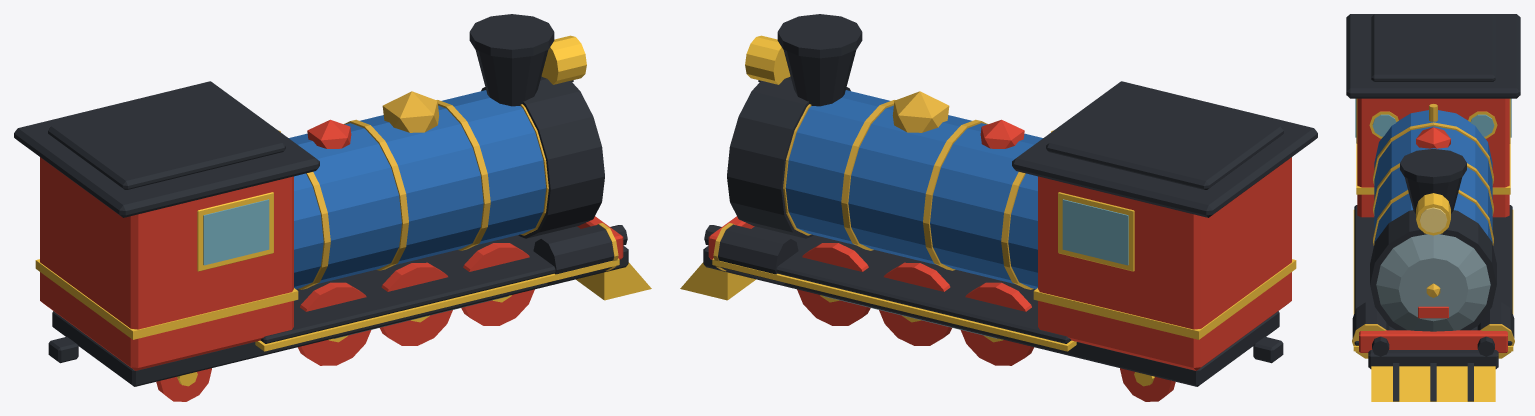
Rendered from sm_env_rail_locomotive.glb.
3 views of the same model, side by side, from view 1: azimuth 30°, elevation 25°; view 2: azimuth 150°, elevation 25°; view 3: azimuth 270°, elevation 25° (orthographic). The views are drawn at different scales.
Parts seen in each view (by area): view 1: Cab, Boiler, CabRoofTop, CabRoof, RunningBoard, Smokebox, Frame, CabWindow, ChimneyLip, Cylinder, Valance, Chimney (+14 smaller); view 2: Cab, Boiler, CabRoofTop, CabRoof, RunningBoard, Smokebox, Frame, CabWindow.001, ChimneyLip, Cylinder.001, Valance, Chimney (+14 smaller); view 3: SmokeboxDoor, CabRoofTop, Boiler, CabRoof, Cab, Cowcatcher, Smokebox, RunningBoard, BufferBeam, Frame, ChimneyLip, Chimney (+22 smaller).
Part boxes in pixels (x1,y1,x2,y2): Cab: (40, 157, 293, 370); Boiler: (289, 90, 546, 288); CabRoofTop: (48, 88, 285, 189); CabRoof: (14, 81, 319, 217); RunningBoard: (260, 226, 579, 343); Smokebox: (481, 76, 604, 238); Frame: (52, 245, 628, 386); CabWindow: (203, 199, 269, 265); ChimneyLip: (469, 14, 554, 58); Cylinder: (533, 224, 613, 284); Valance: (255, 258, 619, 351); Chimney: (475, 50, 548, 106); Cab: (1038, 157, 1291, 370); Boiler: (785, 90, 1042, 288); CabRoofTop: (1046, 88, 1283, 189); CabRoof: (1012, 81, 1317, 217); RunningBoard: (752, 226, 1071, 343); Smokebox: (727, 76, 850, 238); Frame: (703, 245, 1279, 386); CabWindow.001: (1062, 199, 1128, 265); ChimneyLip: (777, 14, 862, 58); Cylinder.001: (718, 224, 798, 284); Valance: (712, 258, 1076, 351); Chimney: (783, 50, 856, 106); SmokeboxDoor: (1376, 234, 1490, 331); CabRoofTop: (1371, 14, 1495, 81); Boiler: (1374, 110, 1492, 243); CabRoof: (1346, 14, 1520, 98); Cab: (1357, 98, 1509, 217); Cowcatcher: (1371, 366, 1495, 401); Smokebox: (1370, 210, 1496, 330); RunningBoard: (1354, 205, 1512, 345); BufferBeam: (1359, 330, 1507, 352); Frame: (1368, 350, 1498, 368); ChimneyLip: (1400, 149, 1466, 183); Chimney: (1404, 177, 1462, 213).
Bounding box in the file's own units: 8.25 × 3.63 × 2.8.
